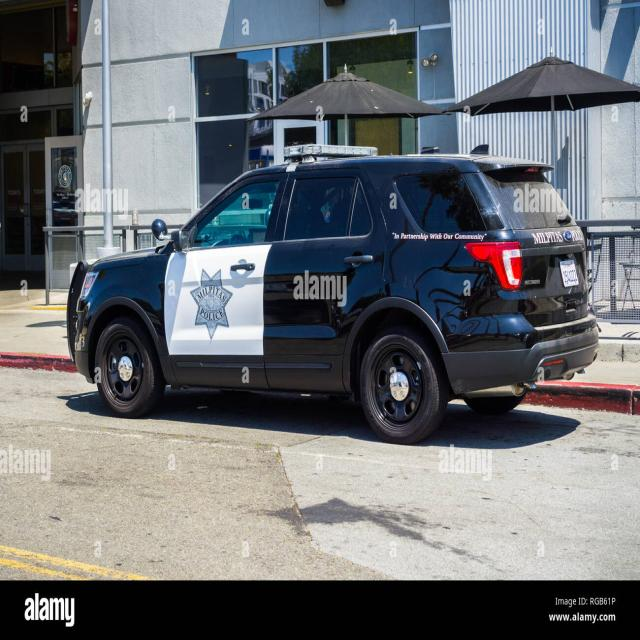cop: (62, 144, 606, 443)
